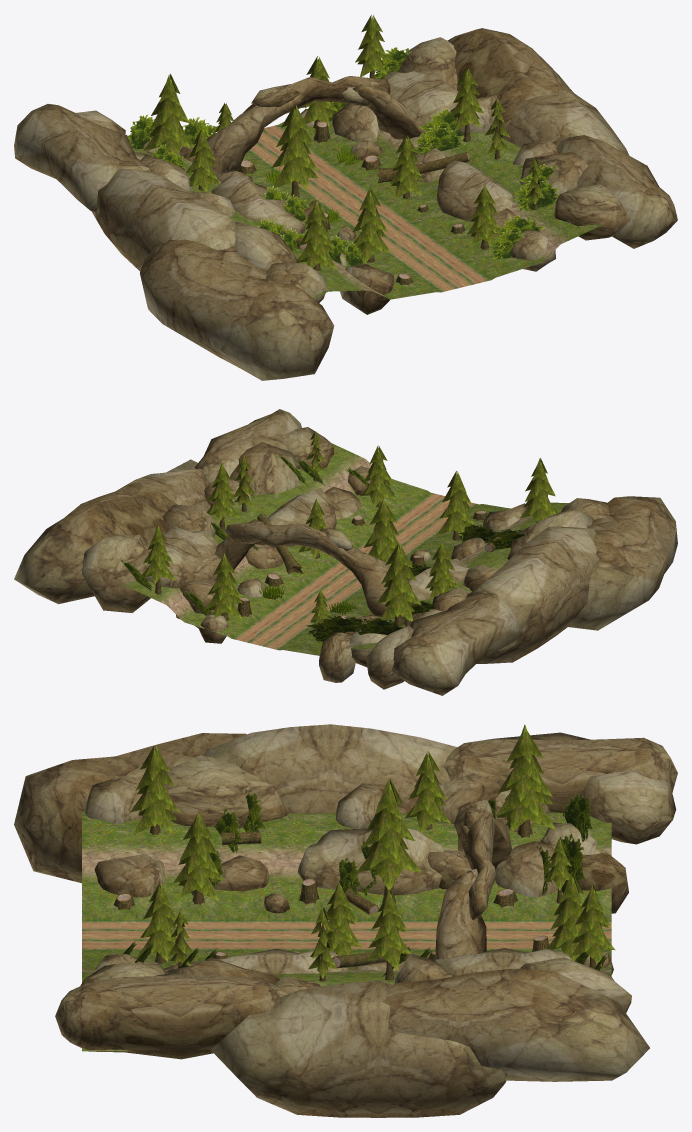
File: BikeRoad03.FBX
3 renders of one model, top to bottom at view 1: azimuth 30°, elevation 25°; view 2: azimuth 150°, elevation 25°; view 3: azimuth 270°, elevation 25°, orthographic. The views are drawn at different scales.
Parts seen in each view (by area): view 1: Rock (×21), Ground, Tree (×11), GrassPlane (×7), Log; view 2: Rock (×27), Ground, Tree (×11), GrassPlane (×2), Log; view 3: Rock (×25), Ground, Tree (×13), GrassPlane (×3).
Part boxes in pixels (x1,y1,x2,y2): Rock (×21): (14,28,677,380); Ground: (127,77,603,299); Tree (×11): (143,14,510,270); GrassPlane (×7): (127,47,559,259); Log: (376,152,469,183); Rock (×27): (14,409,677,695); Ground: (120,443,568,655); Tree (×11): (140,445,557,626); GrassPlane (×2): (306,615,404,641); Log: (257,513,303,574); Rock (×25): (14,724,677,1117); Ground: (82,811,611,1051); Tree (×13): (130,724,615,981); GrassPlane (×3): (336,792,592,902).
Size of the model in its own units: 5622 by 1608 by 5015.
